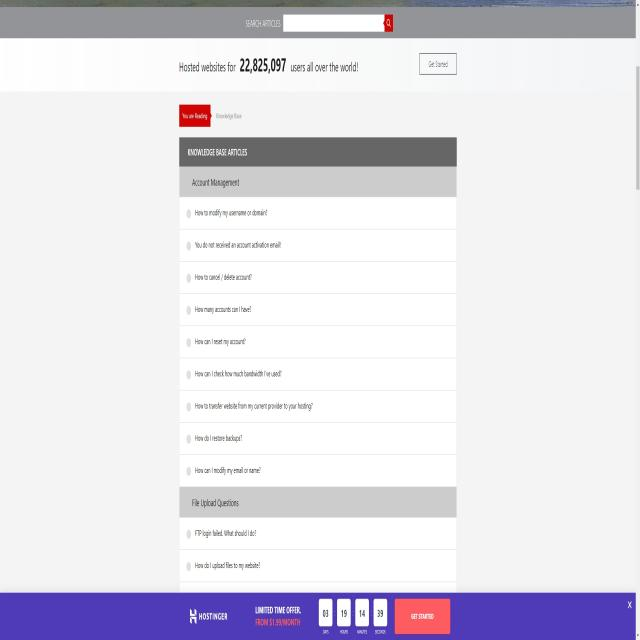search: (283, 14, 393, 32)
